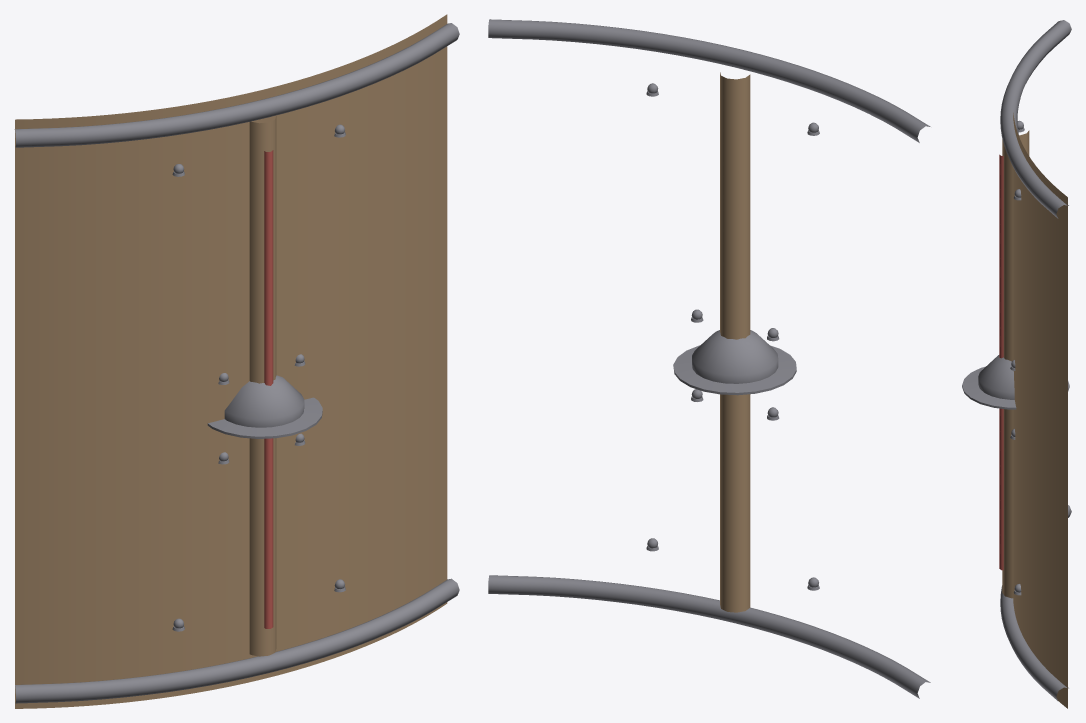
The model's file is tower-shield.glb.
3 renders of one model, left to right at view 1: azimuth 30°, elevation 25°; view 2: azimuth 150°, elevation 25°; view 3: azimuth 270°, elevation 25°, orthographic. The views are drawn at different scales.
Parts seen in each view (by area): view 1: tower-shield; view 2: tower-shield; view 3: tower-shield.
Part boxes in pixels (x1,y1,x2,y2): tower-shield: [14, 14, 459, 708]; tower-shield: [488, 19, 930, 698]; tower-shield: [962, 20, 1071, 708].
Bounding box in the file's own units: 0.8273 × 1.05 × 0.2041.
